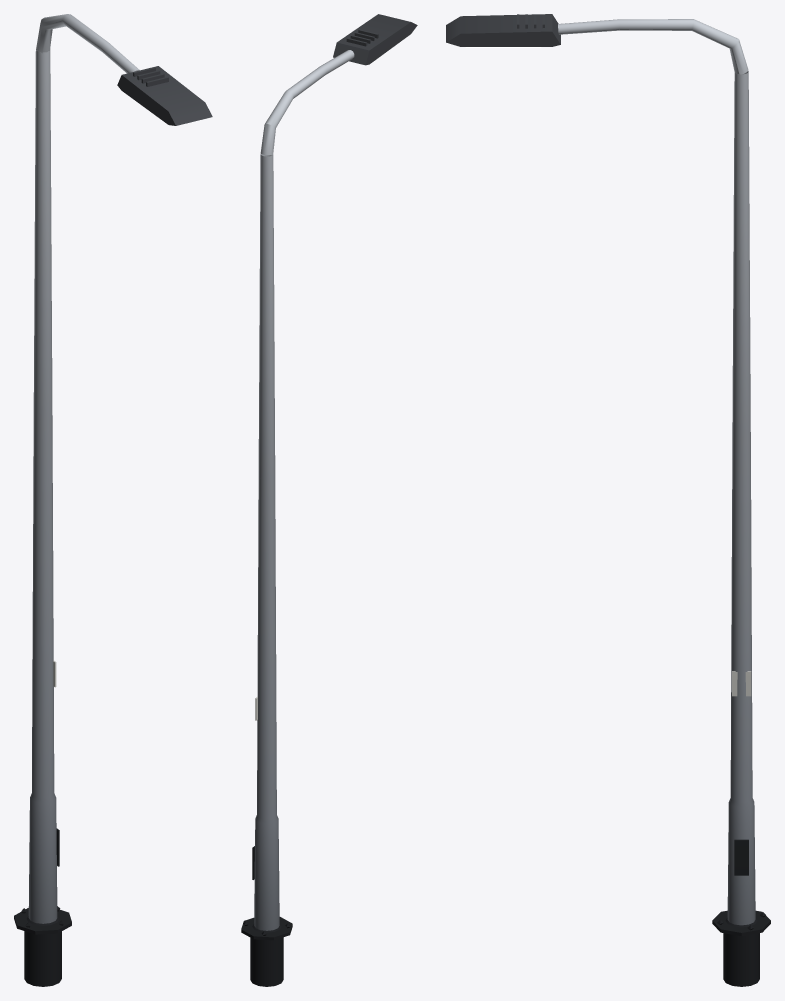
The model's file is Lamp_Road.fbx.
3 renders of one model, left to right at view 1: azimuth 30°, elevation 25°; view 2: azimuth 150°, elevation 25°; view 3: azimuth 270°, elevation 25°, orthographic. The views are drawn at different scales.
Visible parts, largest first — view 1: Lamp_Road_LOD0; view 2: Lamp_Road_LOD0; view 3: Lamp_Road_LOD0.
Boxes of the visible parts, bbox=[...] form: Lamp_Road_LOD0: bbox=[14, 14, 212, 986]; Lamp_Road_LOD0: bbox=[241, 14, 417, 986]; Lamp_Road_LOD0: bbox=[446, 14, 770, 986].
Size of what is drawn, in the model's own units: 0.48 by 8.67 by 2.66.
Materials: 1 (1 with a texture image).
